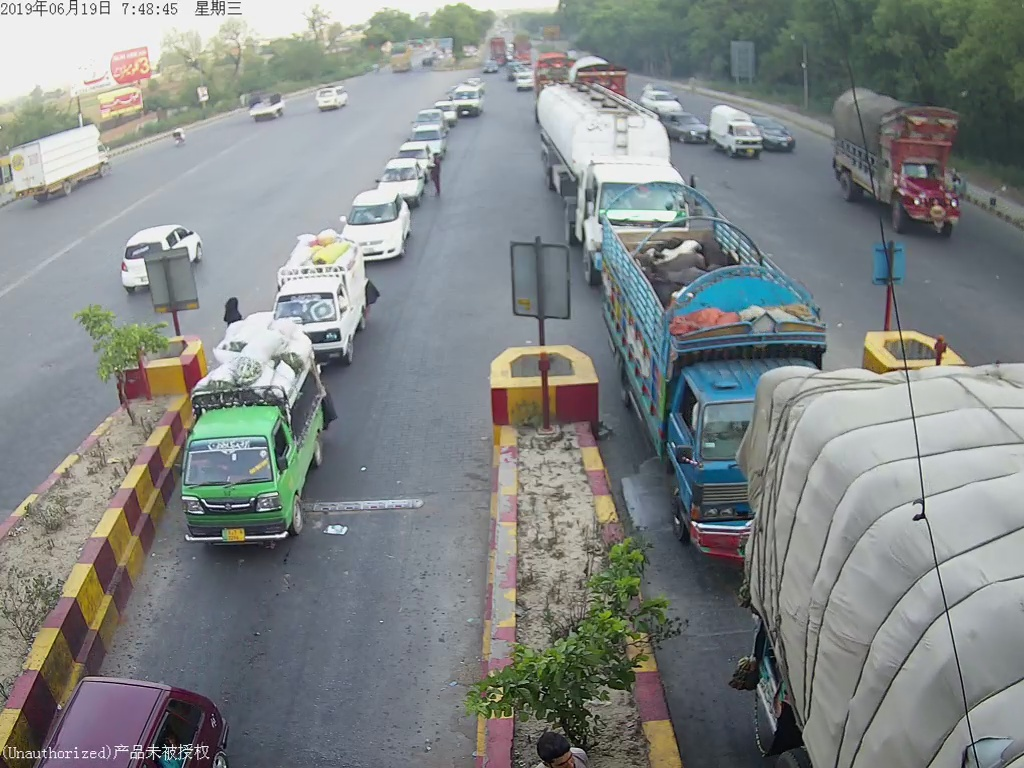Cat-1: (172, 319, 333, 547), (271, 231, 369, 363), (337, 184, 408, 258), (378, 154, 426, 203)
Cat-2: (604, 181, 829, 562)
Cat-4: (832, 84, 962, 231)
Cat-5: (536, 82, 679, 276)
